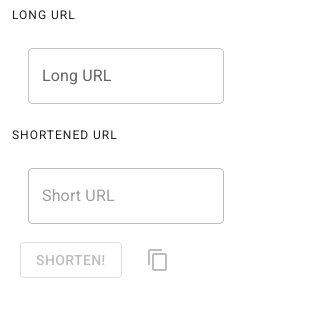
Test: renders invalid url format when a 400 is returned
This screenshot has width=332, height=318.
Type "hellobadURL" into the text box labelled "Long URL" at (126, 76), box x1=42 y1=64 x2=210 y2=87
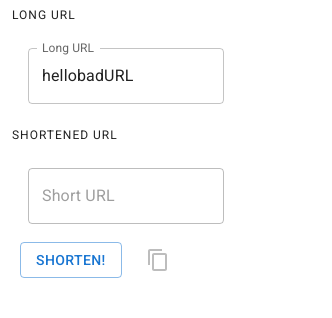
Result: the button "Shorten!" is enabled
Click the button "Shorten!" at (71, 260), box x1=20 y1=242 x2=122 y2=278
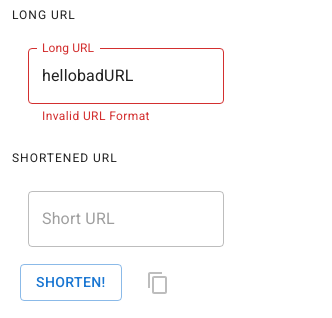
Result: the text "Invalid URL Format" is shown at x1=42 y1=109 x2=150 y2=123
